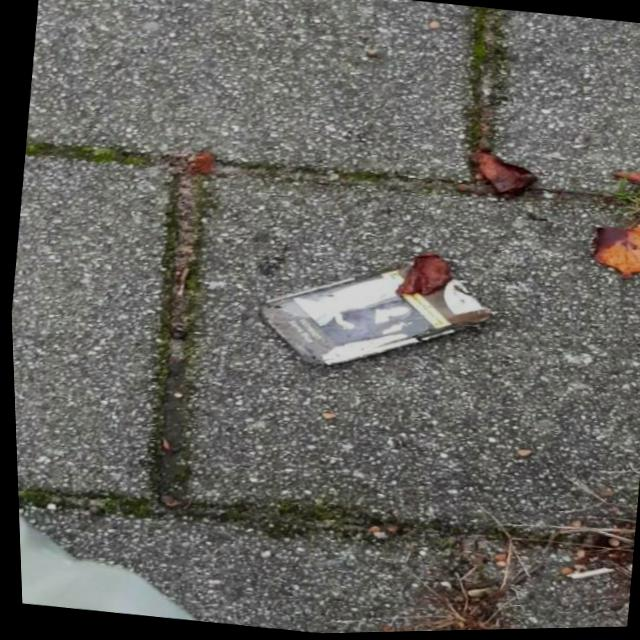Paper: (240, 229, 503, 391)
